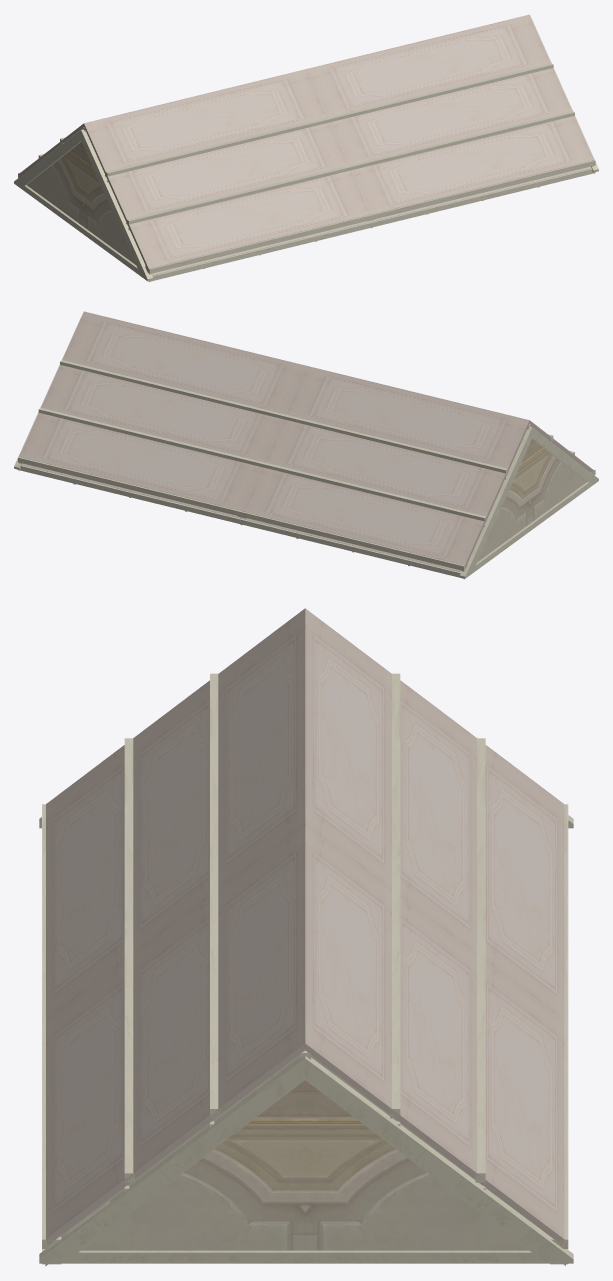
Rendered from Homeworld_Interior_Fd_Room_M_Ceiling_01_Vo.fbx.
3 views of the same model, one above another, from view 1: azimuth 30°, elevation 25°; view 2: azimuth 150°, elevation 25°; view 3: azimuth 270°, elevation 25° (orthographic). The views are drawn at different scales.
Parts seen in each view (by area): view 1: Homeworld_Interior_Fd_Room_Ceiling_02_Vo (×5), Homeworld_Interior_Fd_Room_Ceiling_03_Vo; view 2: Homeworld_Interior_Fd_Room_Ceiling_02_Vo (×5), Homeworld_Interior_Fd_Room_Ceiling_03_Vo; view 3: Homeworld_Interior_Fd_Room_Ceiling_02_Vo, Homeworld_Interior_Fd_Room_Ceiling_03_Vo.
Part boxes in pixels (<box>): Homeworld_Interior_Fd_Room_Ceiling_02_Vo (×5): <box>18,14,595,282</box>; Homeworld_Interior_Fd_Room_Ceiling_03_Vo: <box>14,129,152,281</box>; Homeworld_Interior_Fd_Room_Ceiling_02_Vo (×5): <box>18,311,595,579</box>; Homeworld_Interior_Fd_Room_Ceiling_03_Vo: <box>460,426,598,578</box>; Homeworld_Interior_Fd_Room_Ceiling_02_Vo: <box>42,608,568,1250</box>; Homeworld_Interior_Fd_Room_Ceiling_03_Vo: <box>39,1056,573,1263</box>.
Bounding box in the file's own units: 20.25 × 4.79 × 10.38.
